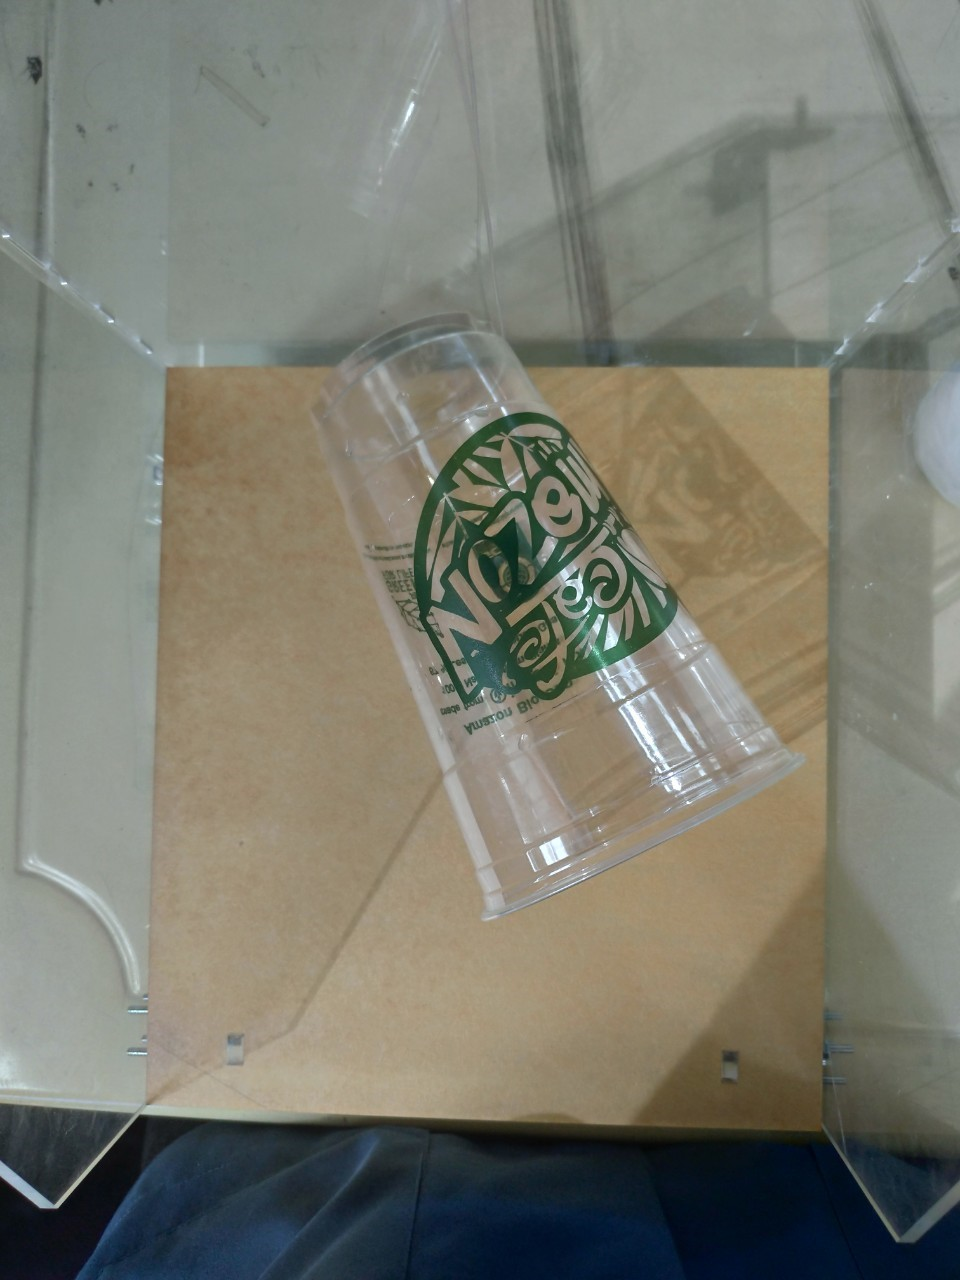PlasticCup: (310, 312, 796, 919)
